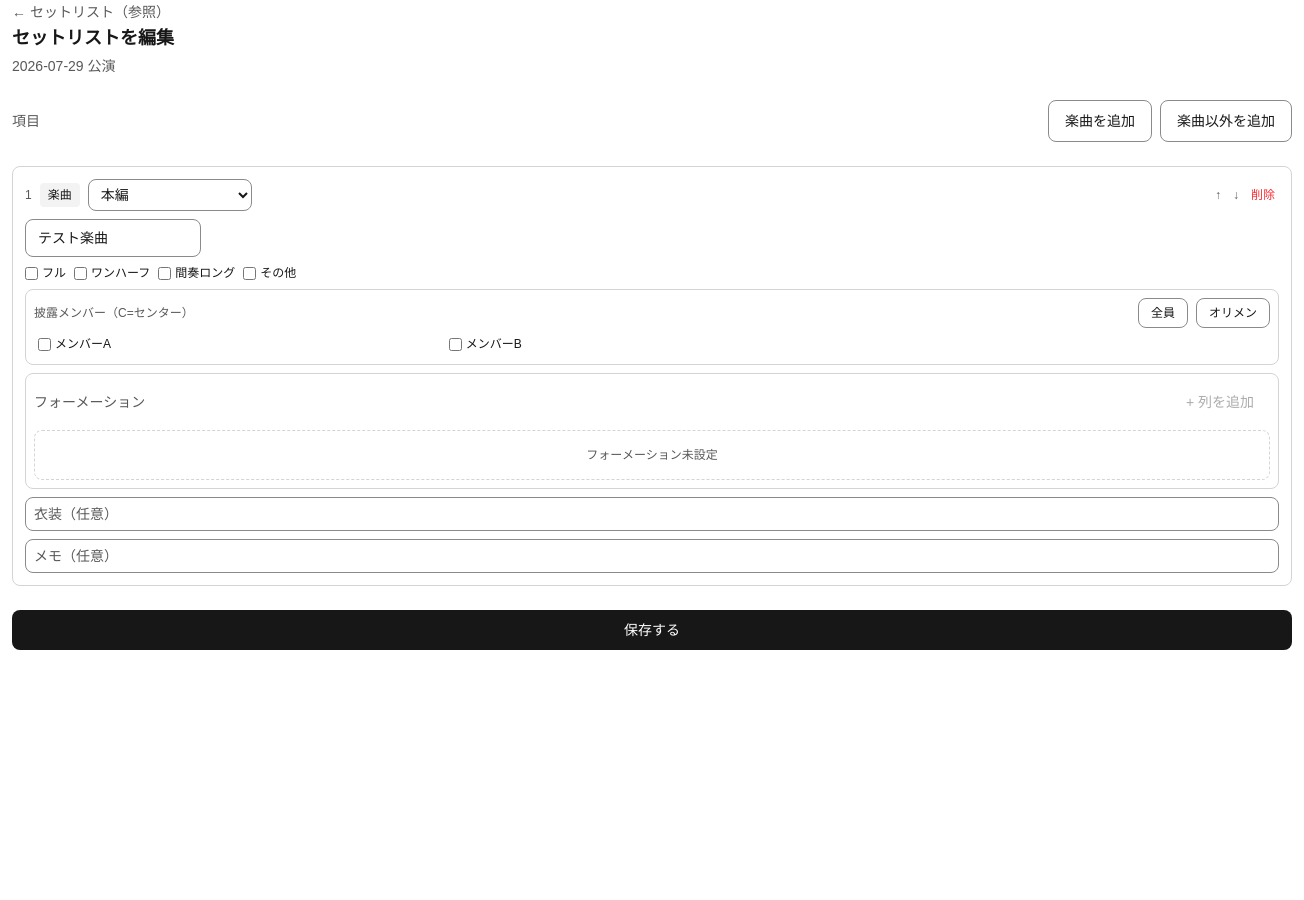
Scenario: SetlistEditor のオリメン反映 › pending中の操作を抑止し、手動編集後の後着応答を入力にも通知にも反映しない
Click the button "オリメン": click(1233, 313) [1196,298,1270,328]
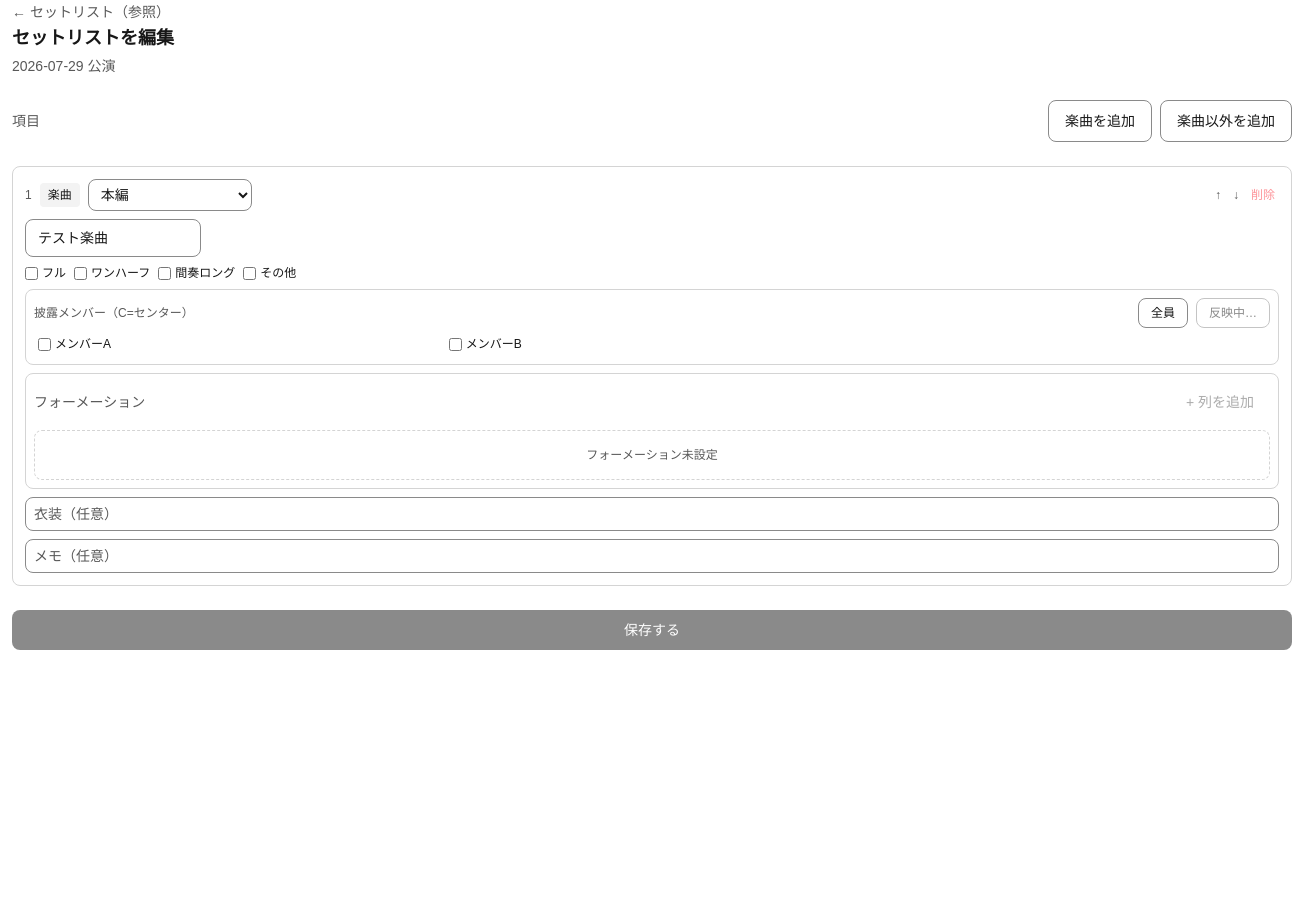
Result: the button "反映中…" is disabled at [1196,298,1270,328]
Result: the button "保存する" is disabled at [12,610,1292,650]
Result: the button "削除" is disabled at [1247,187,1279,203]
Click the checkbox labelled "メンバーA": click(44, 344) [38,338,51,350]
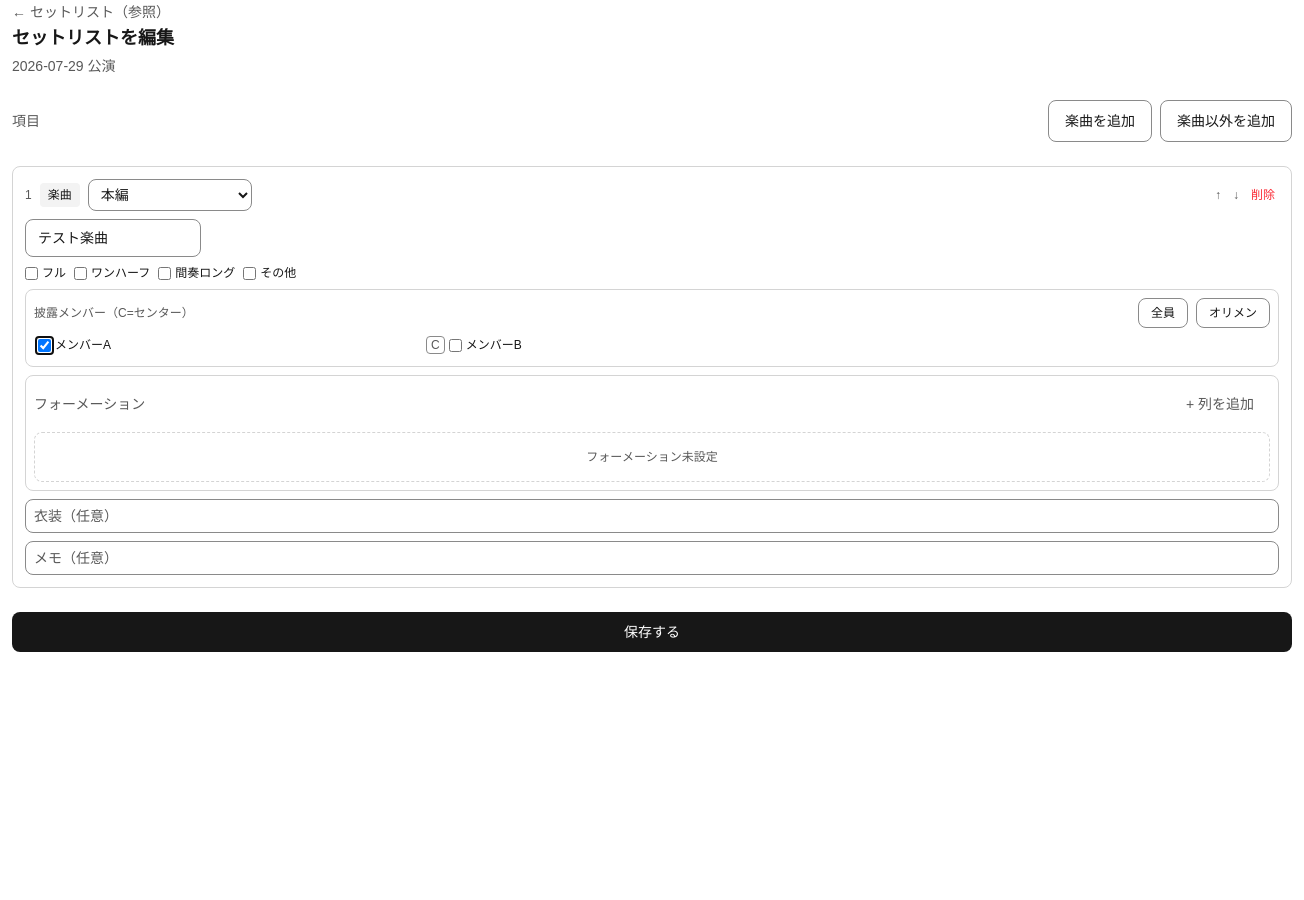
Result: the checkbox labelled "メンバーA" is checked at [38,338,51,352]
Result: the button "オリメン" is enabled at [1196,298,1270,328]
Result: the button "保存する" is enabled at [12,612,1292,652]
